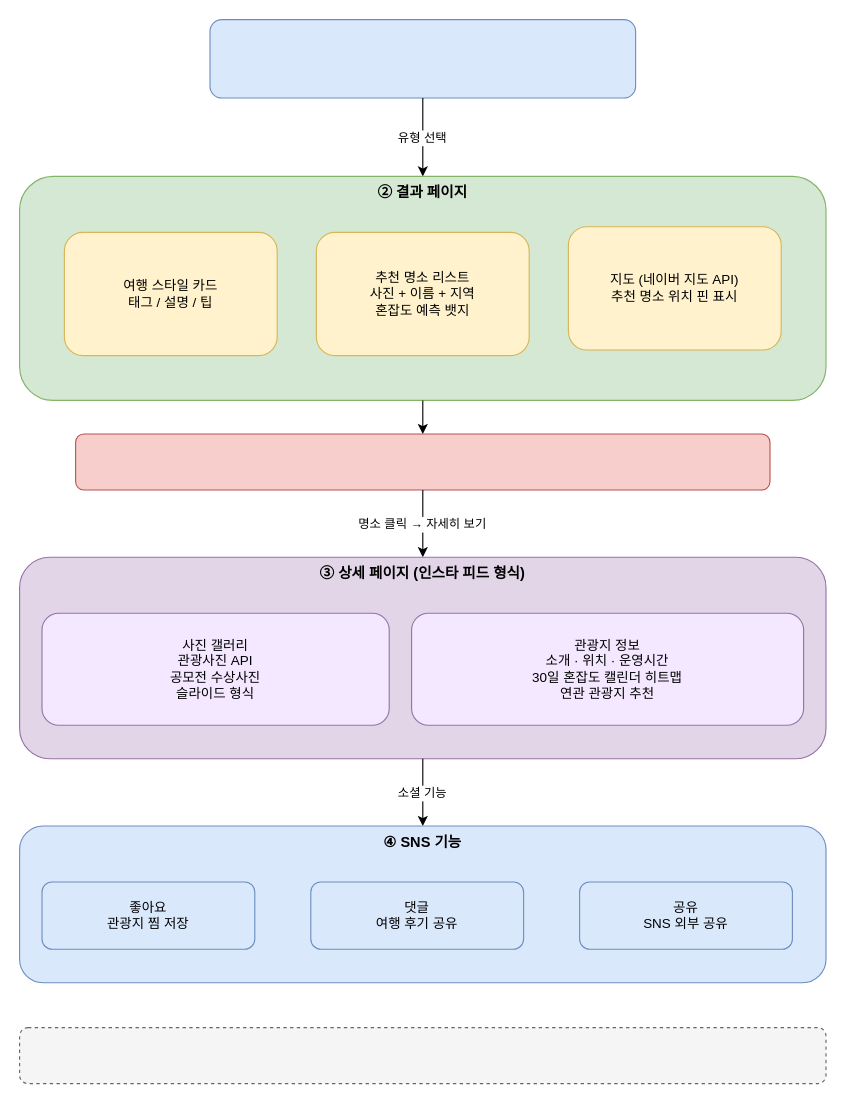
Image size: 846x1103. Some labels were removed from this diagram. Here are the shapes that lost their labels. From the top down, the centre of each, then its label:
At pixel 422 58: "① 메인 페이지 MBTI 16개 유형 선택 버튼 그리드 표시".
At pixel 422 461: "[테마 필터] 반려동물 · 무장애 · 웰니스 · 캠핑 · 걷기코스".
At pixel 422 1055: "TourAPI: 국문관광정보 · 관광사진 · 연관관광지 · 혼잡도예측 · 반려동물 · 무장애 · 웰니스 · 캠핑(고캠핑) · 두루누비".
